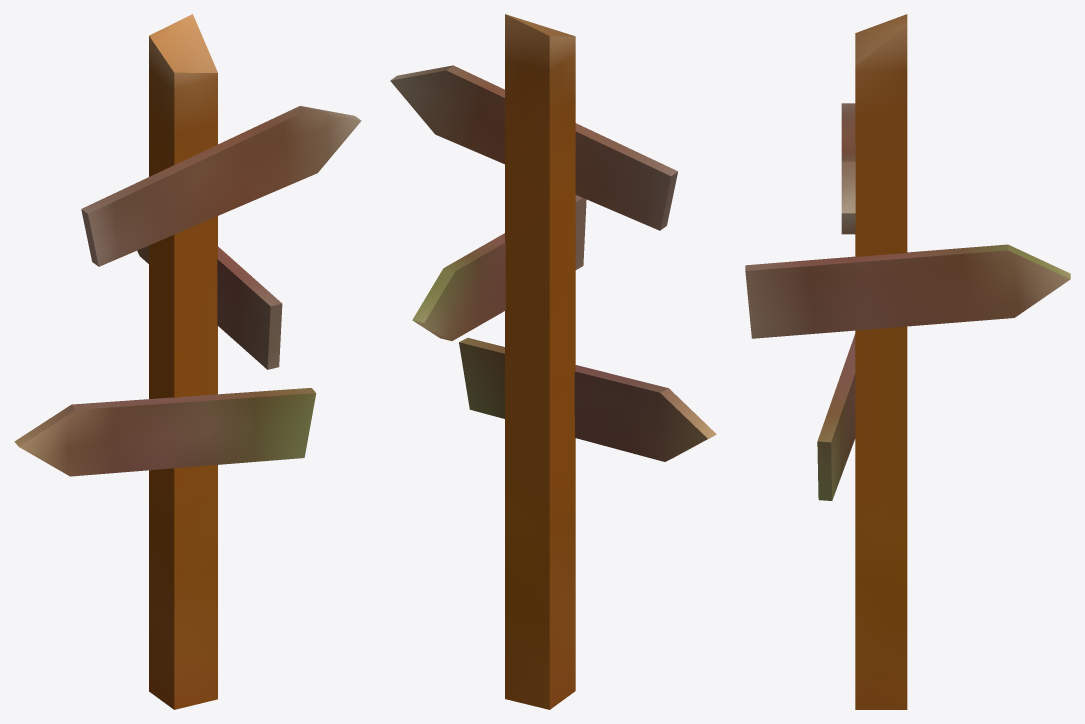
File: mega-pack-cube-310.glb
The picture shows the model from 3 angles, left to right: view 1: azimuth 30°, elevation 25°; view 2: azimuth 150°, elevation 25°; view 3: azimuth 270°, elevation 25°; orthographic projection. The views are drawn at different scales.
Visible parts, largest first — view 1: Cube.310; view 2: Cube.310; view 3: Cube.310.
Boxes of the visible parts, bbox=[...] form: Cube.310: bbox=[14, 14, 361, 709]; Cube.310: bbox=[390, 14, 716, 709]; Cube.310: bbox=[745, 14, 1070, 709].
Bounding box in the file's own units: 0.8174 × 1.59 × 0.6849.
Materials: 1 (1 with a texture image).
